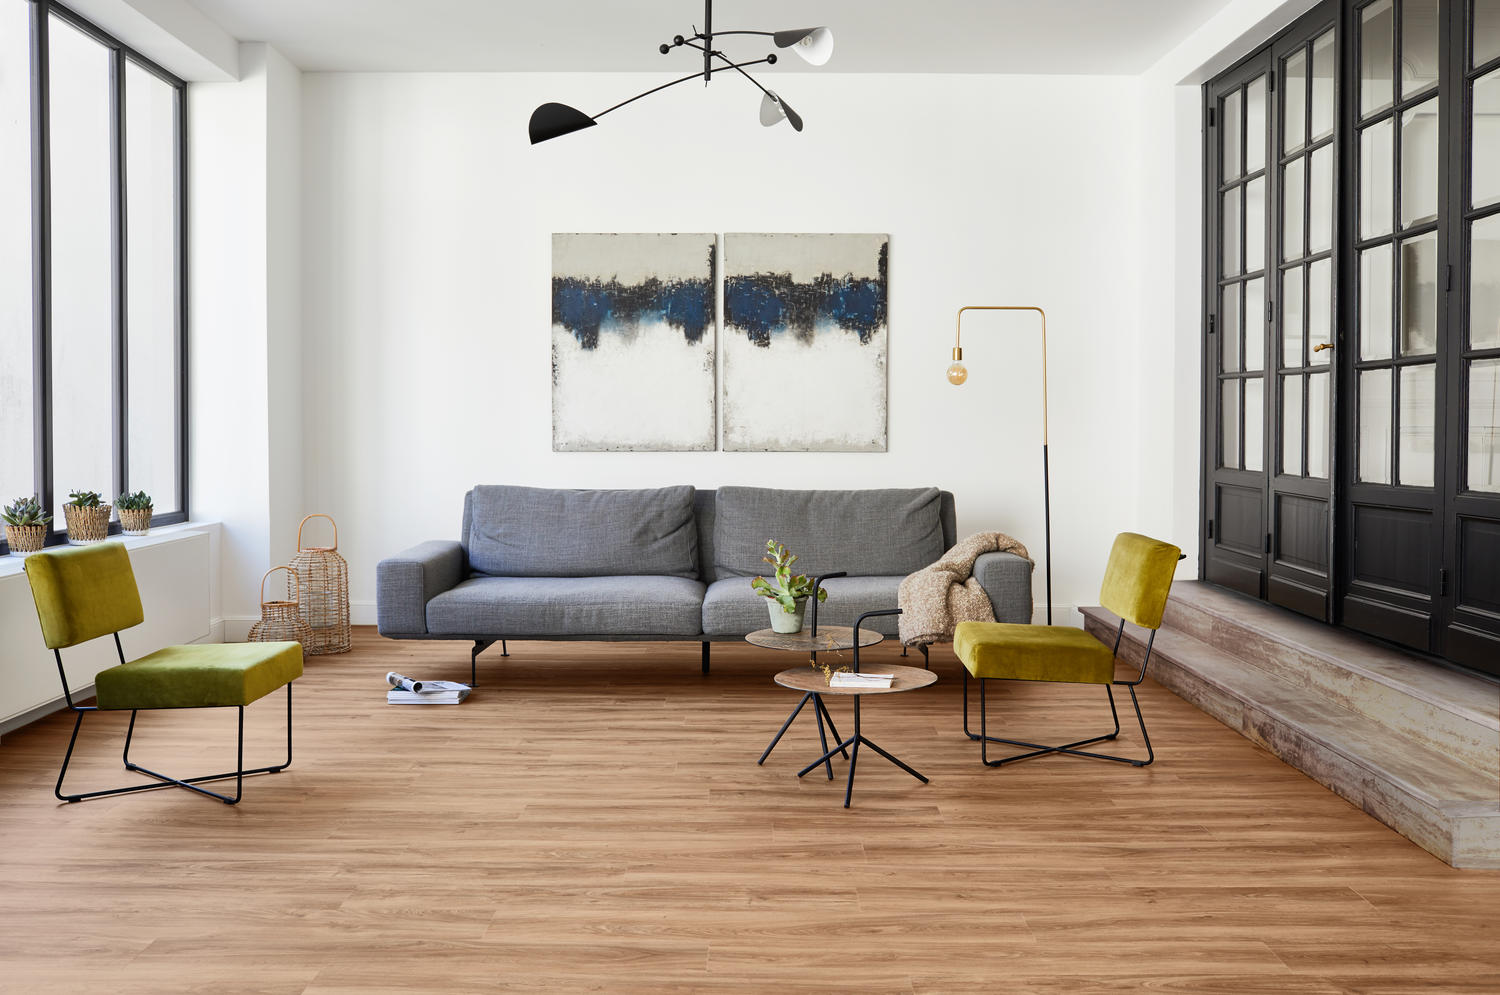chair: (24, 542, 306, 814), (943, 530, 1185, 773)
floor lamp: (940, 292, 1061, 632)
small plant: (748, 537, 830, 641), (0, 488, 46, 553), (61, 492, 114, 545), (114, 482, 153, 533)
sofa: (372, 482, 1041, 686)
table: (775, 662, 935, 810), (738, 627, 886, 766)
wall art: (544, 225, 719, 456), (724, 231, 894, 458)
